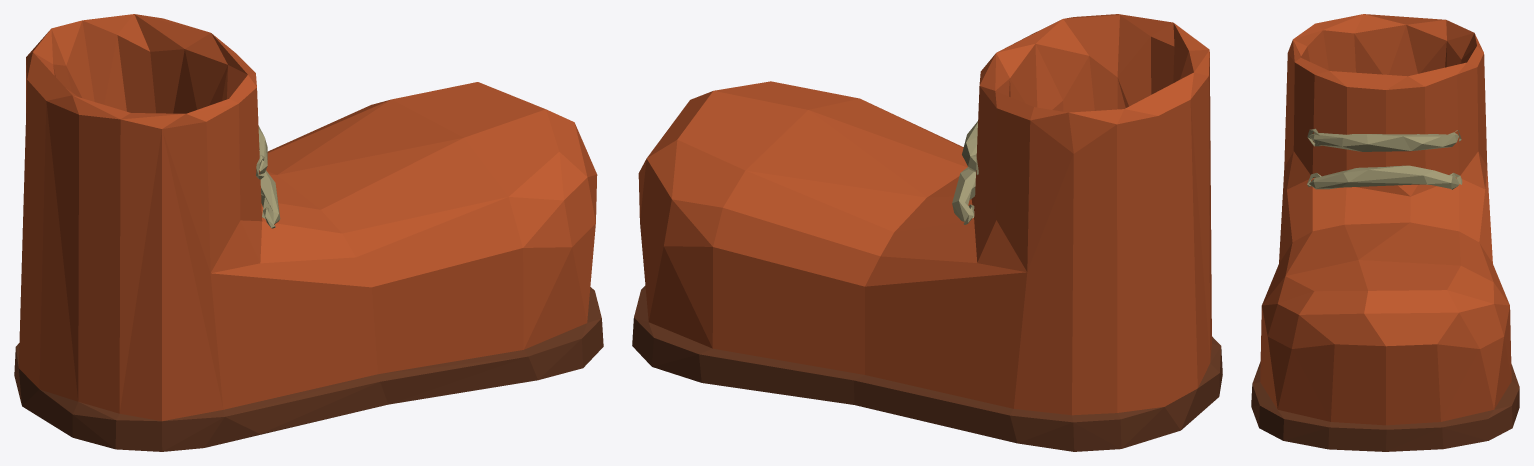
The model's file is shoe_brown.fbx.
The picture shows the model from 3 angles, left to right: view 1: azimuth 30°, elevation 25°; view 2: azimuth 150°, elevation 25°; view 3: azimuth 270°, elevation 25°; orthographic projection. The views are drawn at different scales.
Visible parts, largest first — view 1: shoe.001; view 2: shoe.001; view 3: shoe.001.
Boxes of the visible parts, x1,y1,x2,y2 form: shoe.001: (14, 14, 603, 451); shoe.001: (632, 14, 1222, 451); shoe.001: (1251, 14, 1519, 451).
Size of the model in its own units: 79.97 by 47.23 by 45.8.
